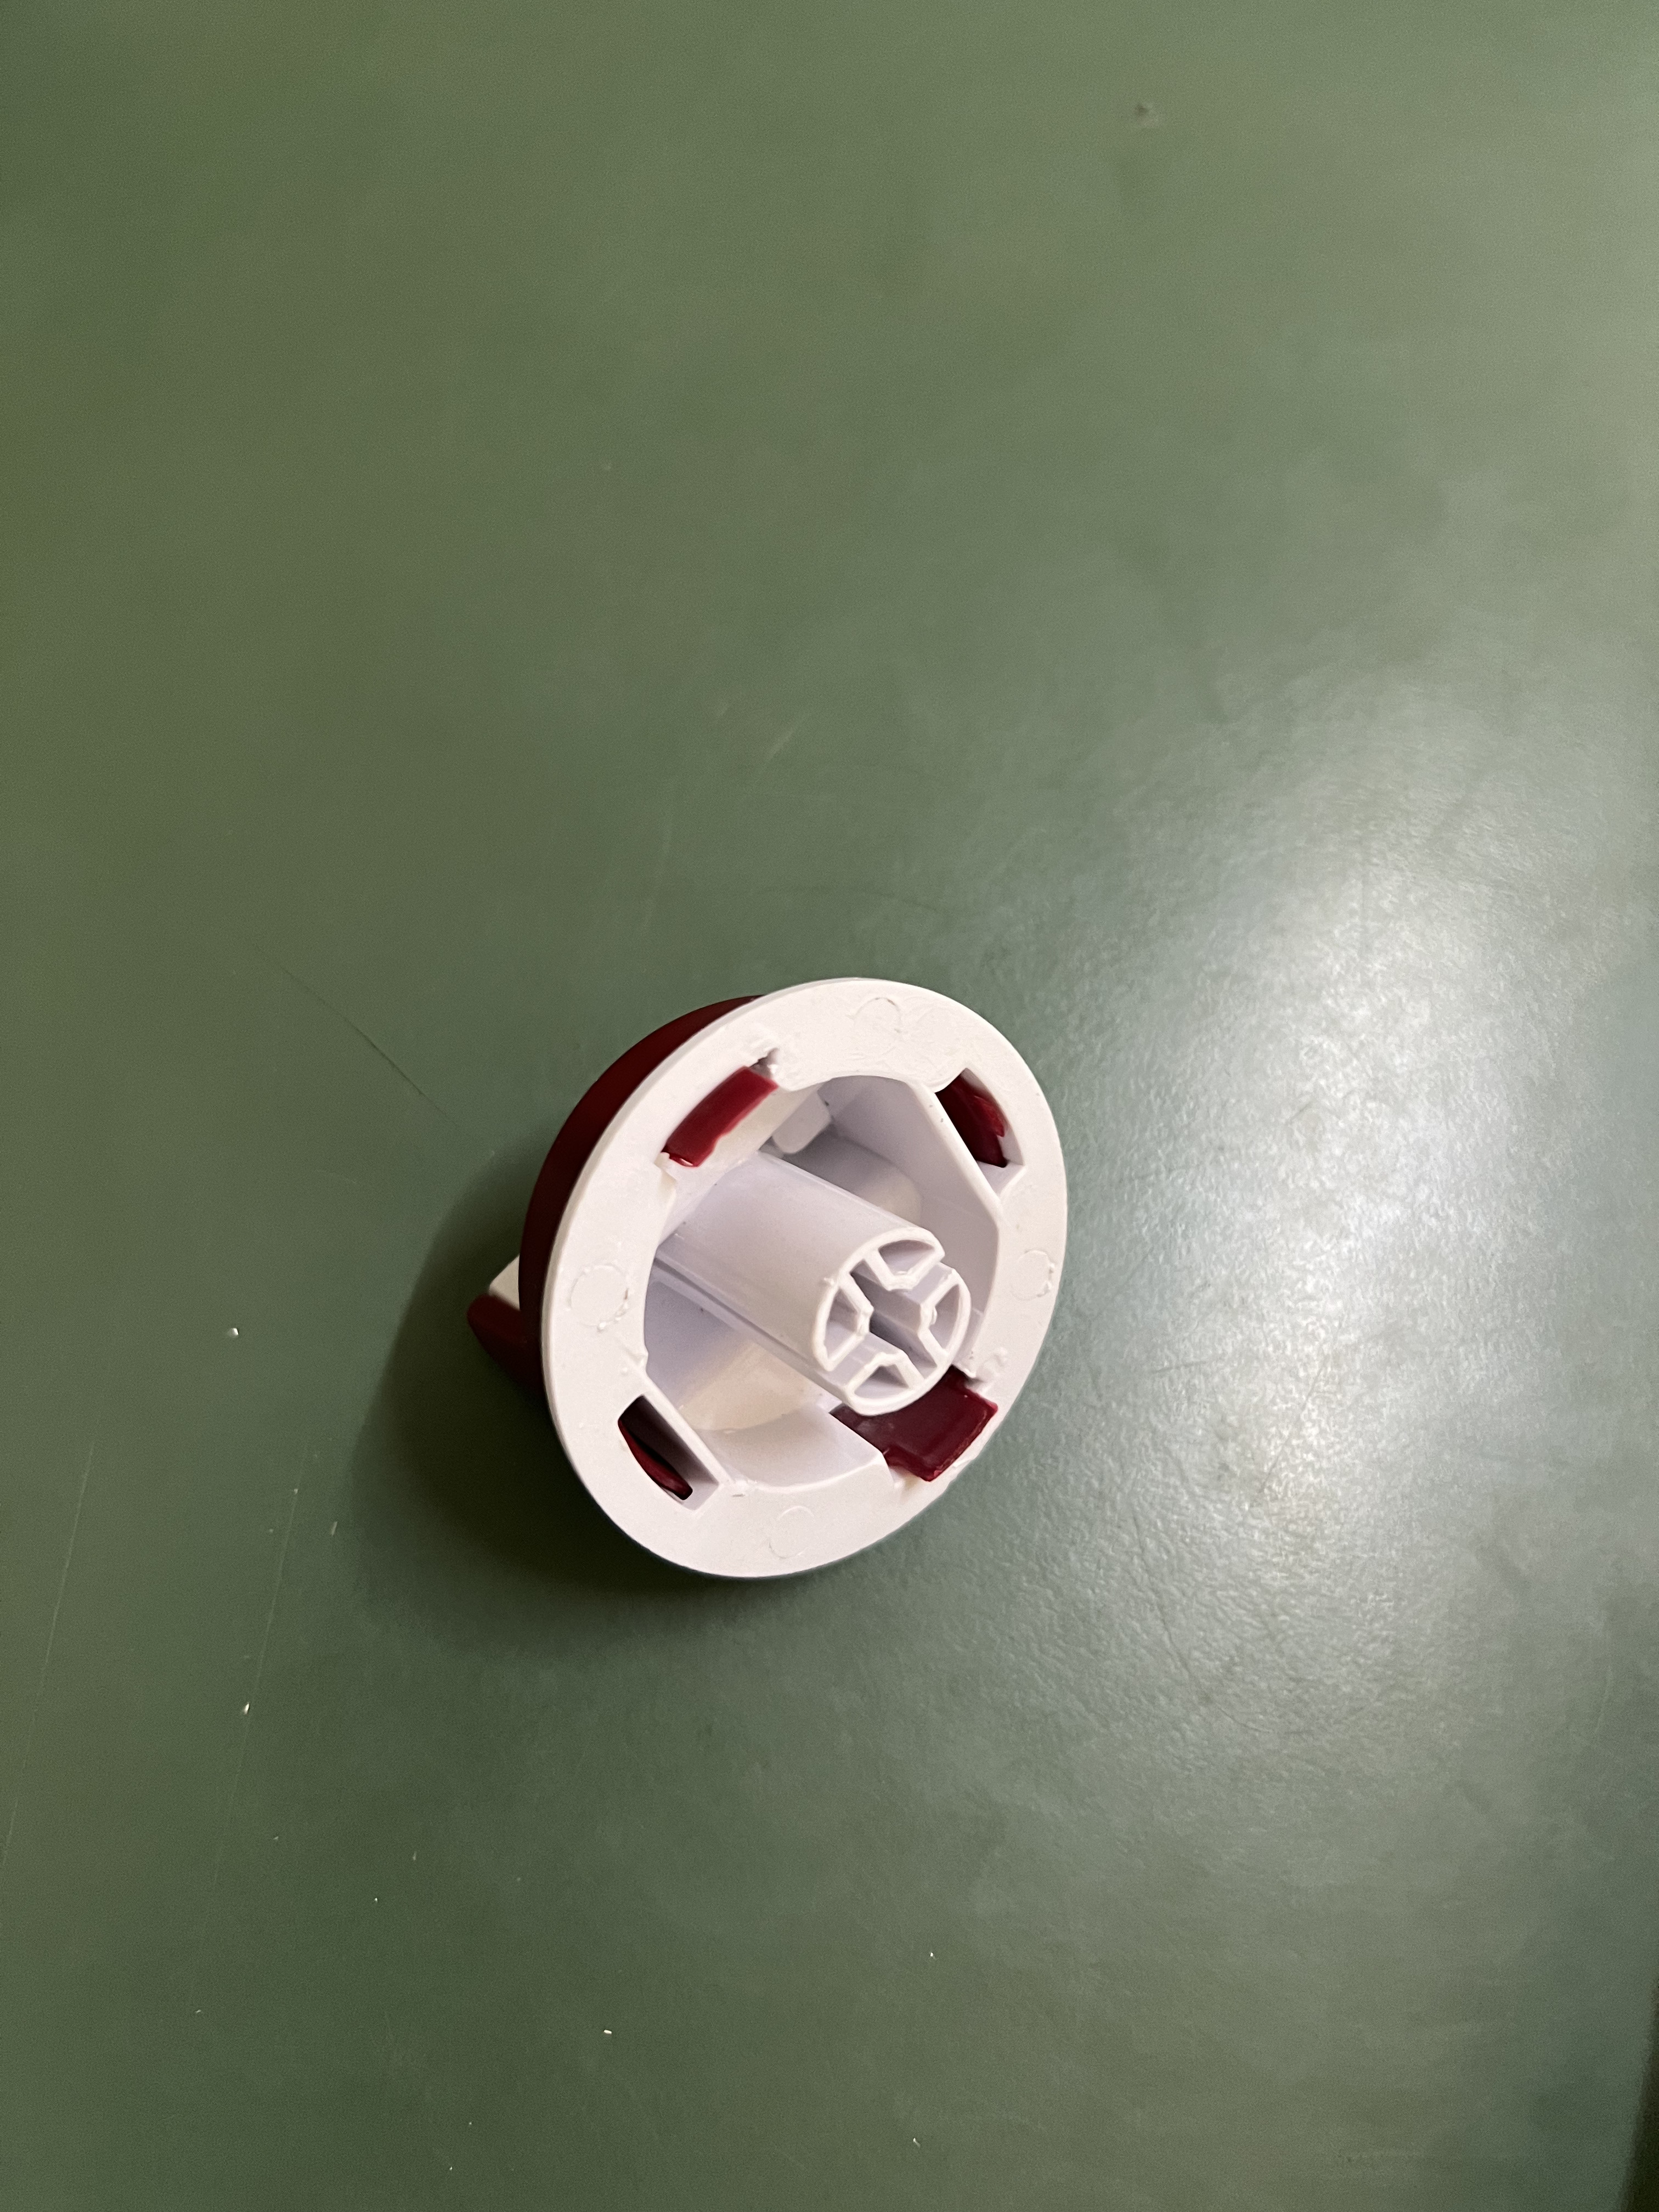regulator: (498, 954, 1073, 1604)
